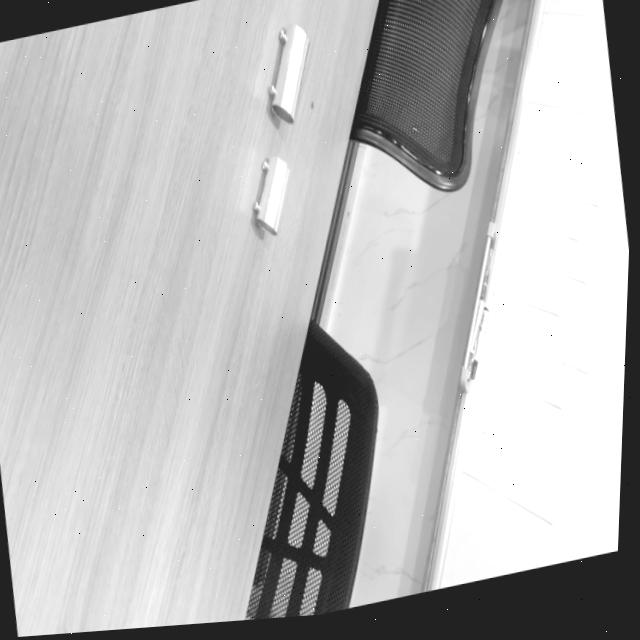Co_Lon: (263, 21, 312, 123)
Co_Nho: (248, 153, 293, 235)
